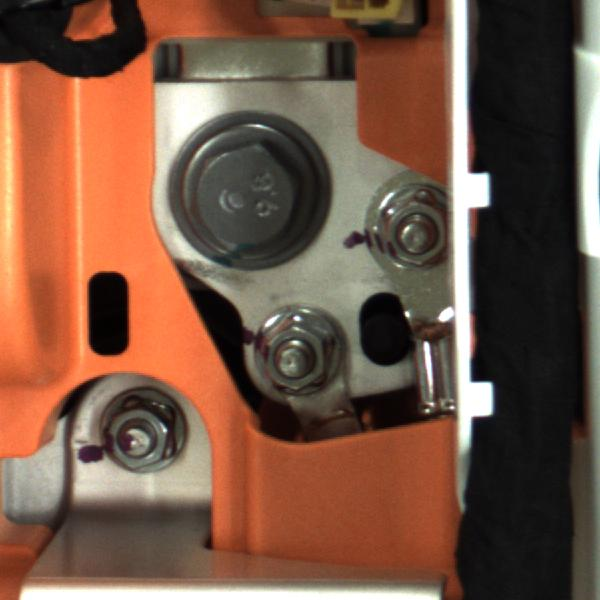nut_b: (161, 113, 333, 272)
screw_s: (242, 305, 349, 417), (77, 406, 193, 478), (374, 179, 443, 271)
